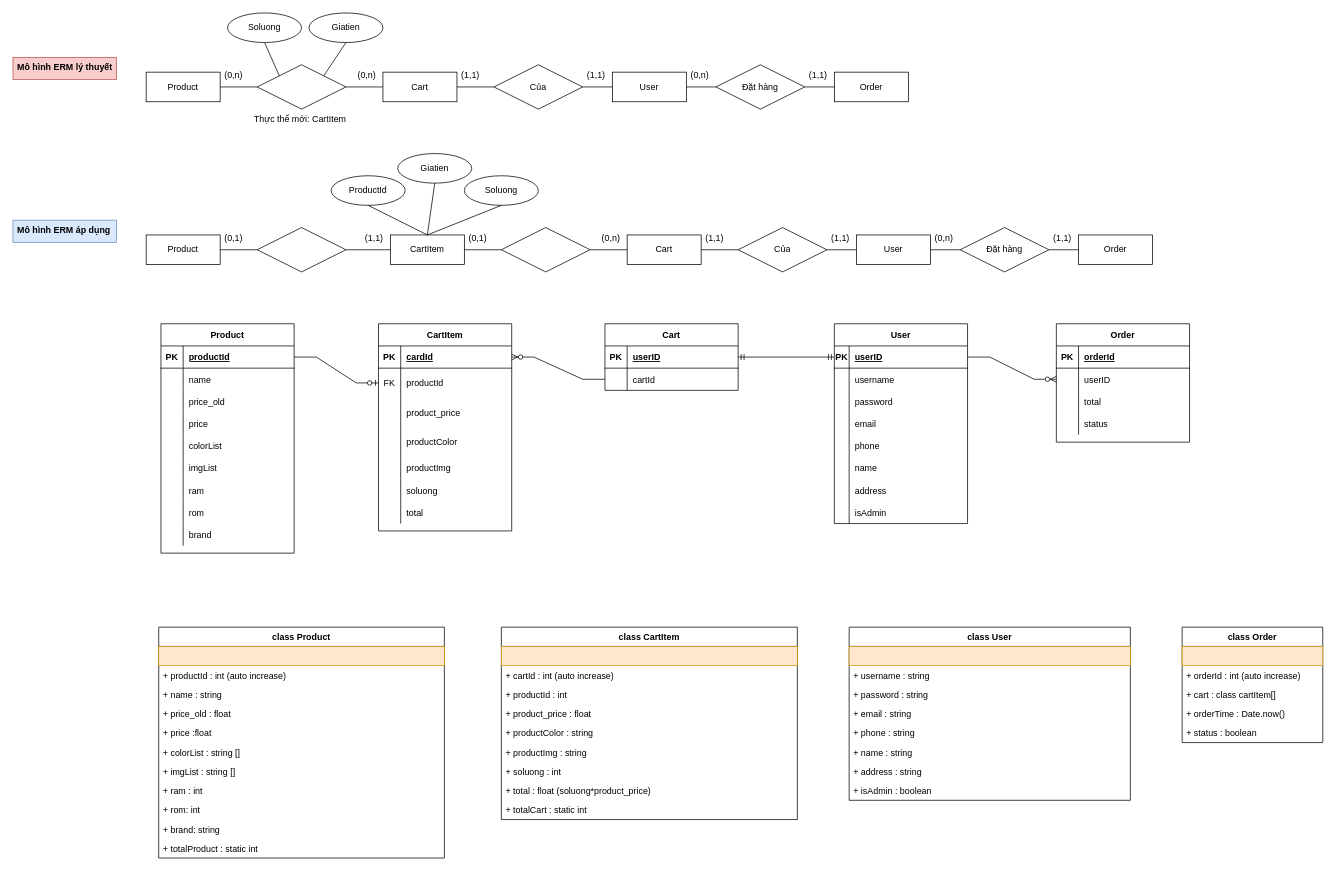
Image size: 1336x873. Some labels were removed from this diagram. Here are the shapes that lost their labels. From the top down, the centre of each, then its label:
the point at 301,86: Thêm giỏ hàng
the point at 301,249: Thêm
the point at 545,249: Thuộc
the point at 301,656: + Product( name, price_old, price, colorList, imgList, ram, rom, brand)
the point at 649,656: + CartItem(productId, product_price, soluong, productColor, productImg)
the point at 989,656: + User(username, password, email, phone, name, address, isAdmin)
the point at 1252,656: + Order(cart)
